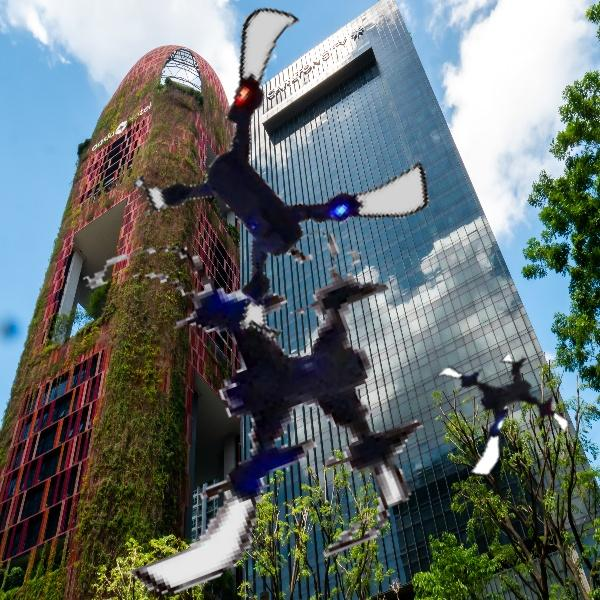drone: (53, 199, 446, 592), (133, 34, 422, 323), (417, 342, 566, 491)
